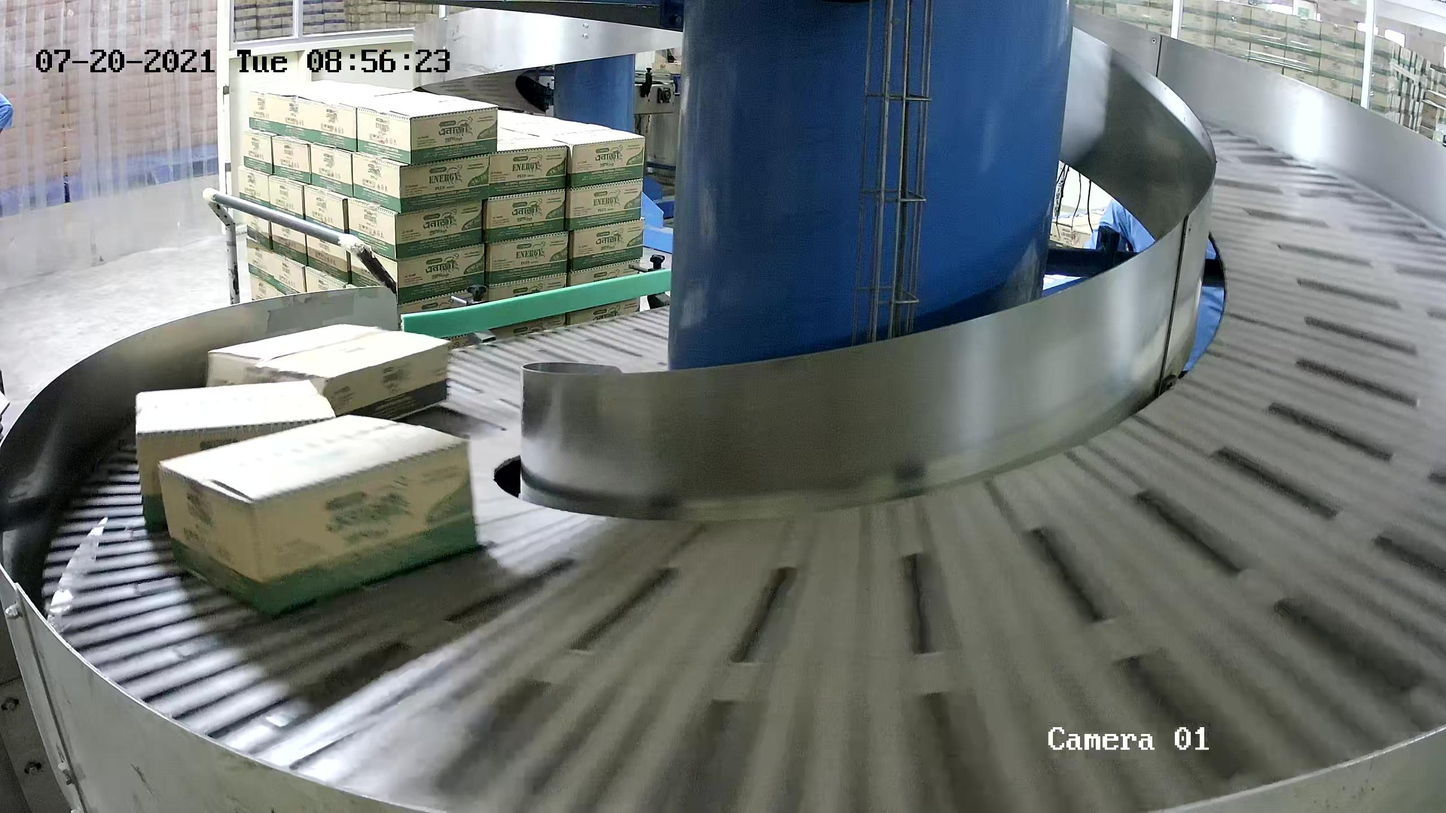Box: (159, 413, 482, 616), (135, 379, 338, 531), (207, 322, 451, 435)
